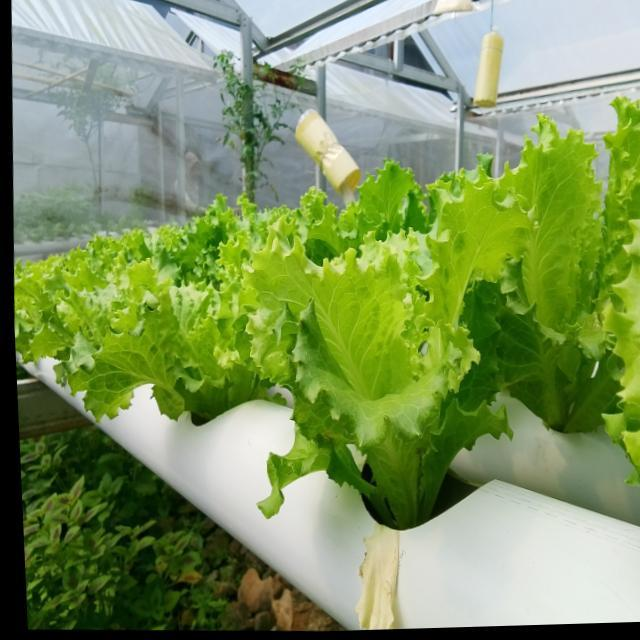Baby: (234, 173, 524, 565)
